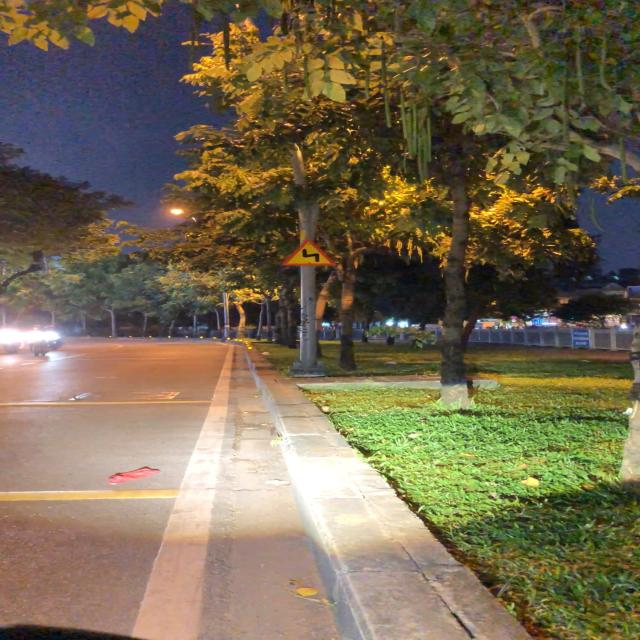Bien bao nhieu cho ngoat nguy hiem lien tiep: (280, 238, 337, 269)
